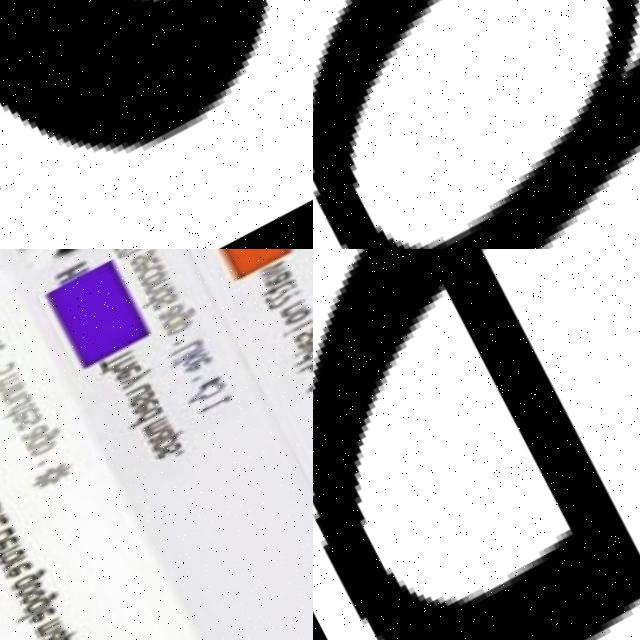0: (115, 249, 156, 261)
1: (199, 384, 239, 414)
3: (0, 355, 22, 386)
E: (314, 249, 640, 640)
Q: (313, 0, 640, 249)
S: (0, 0, 313, 249)
